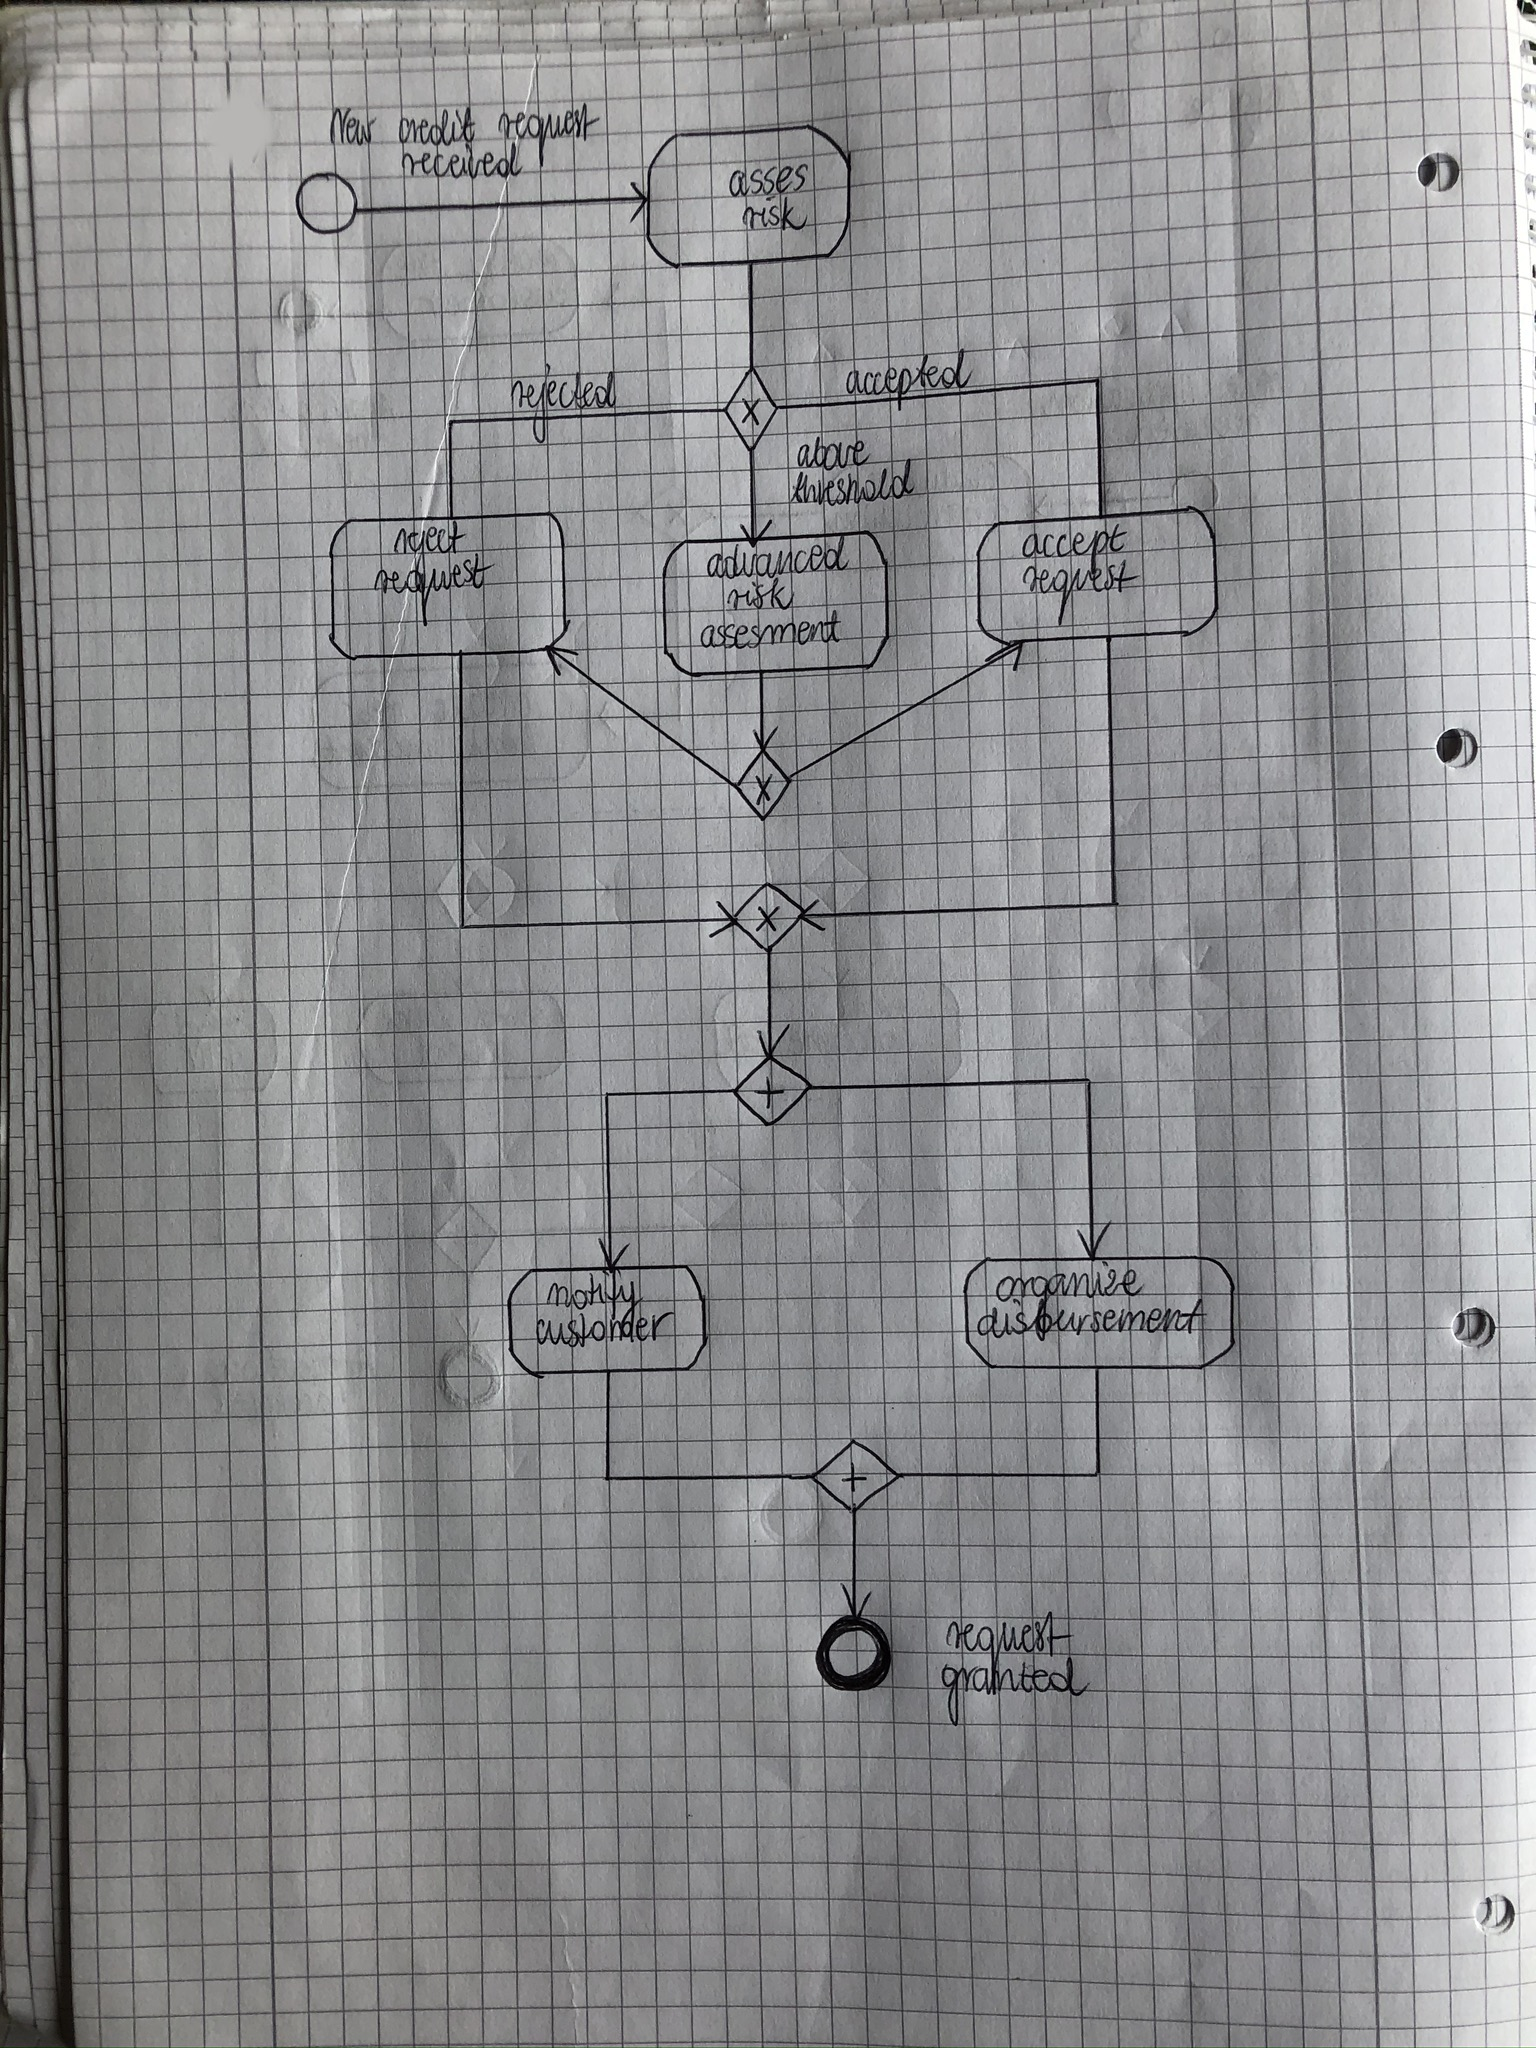New: (326, 105, 381, 150)
above: (792, 434, 873, 476)
accept: (1018, 521, 1134, 576)
accepted: (842, 343, 978, 414)
advanced: (703, 531, 854, 584)
asses: (724, 161, 813, 205)
assesment: (694, 606, 849, 655)
credit: (395, 103, 481, 148)
customer: (531, 1308, 679, 1353)
disbursement: (973, 1295, 1212, 1347)
granted: (937, 1655, 1096, 1730)
notify: (541, 1264, 649, 1342)
organize: (991, 1256, 1144, 1309)
received: (399, 139, 528, 185)
reject: (390, 518, 470, 595)
rejected: (507, 360, 623, 448)
request: (941, 1608, 1079, 1696), (369, 550, 499, 632), (1016, 556, 1146, 631), (494, 98, 607, 174)
risk: (736, 194, 812, 237), (721, 576, 799, 616)
threshold: (786, 455, 918, 511)
